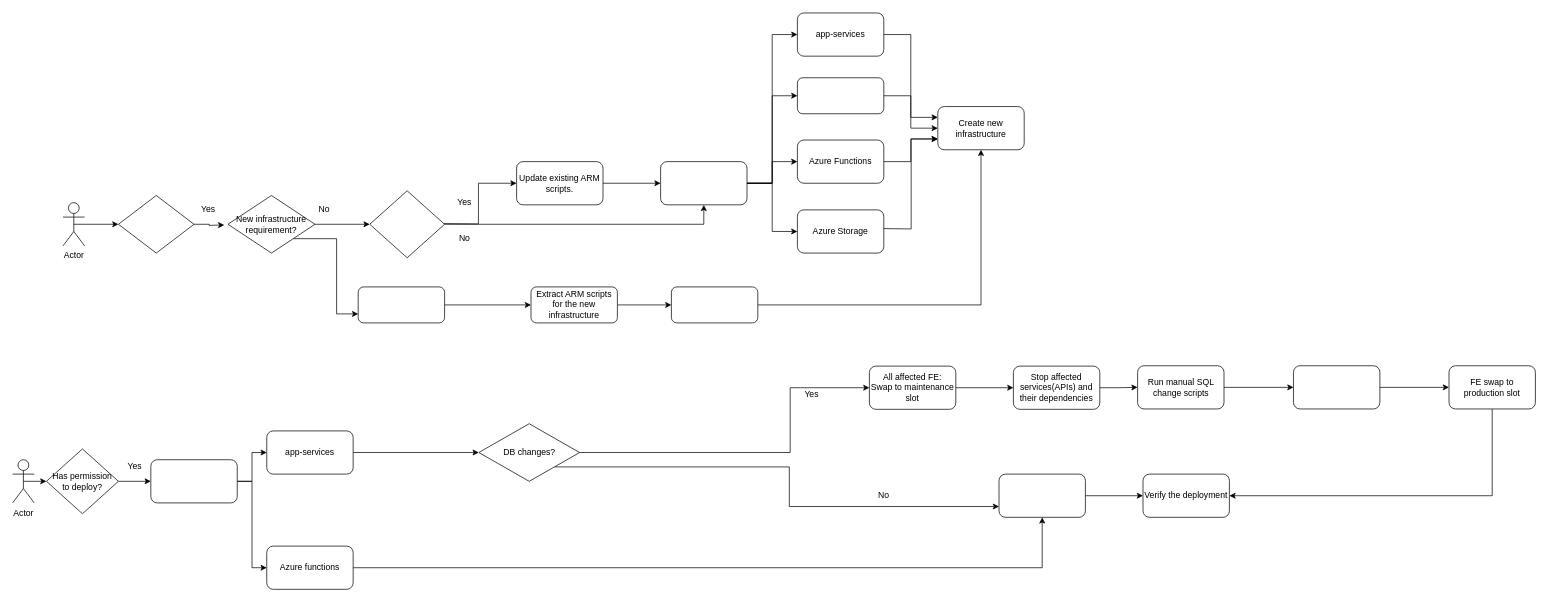
This 1548x602 diagram has some shape labels left out. The centre of each missing label's shape, as x and y in pixels:
Deploy to staging slot (automatic prod. swap): the point at 1041,495
Has permission?: the point at 156,224
IotHub: the point at 840,95
Manually create new infrastructure in Azure.: the point at 401,304
Manually start stopped services: the point at 1336,387
Teamcity production: the point at 193,481
Teamcity production deployment: the point at 703,183
Updates on existing infrastructure?: the point at 407,224
Verify new infrastructure in a clean environment: the point at 714,304
